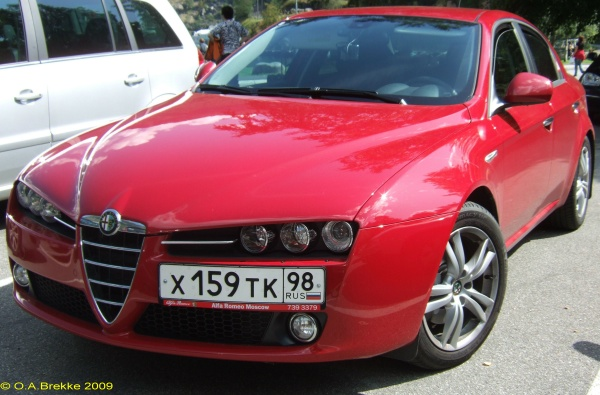car license plate: (157, 264, 323, 313)
